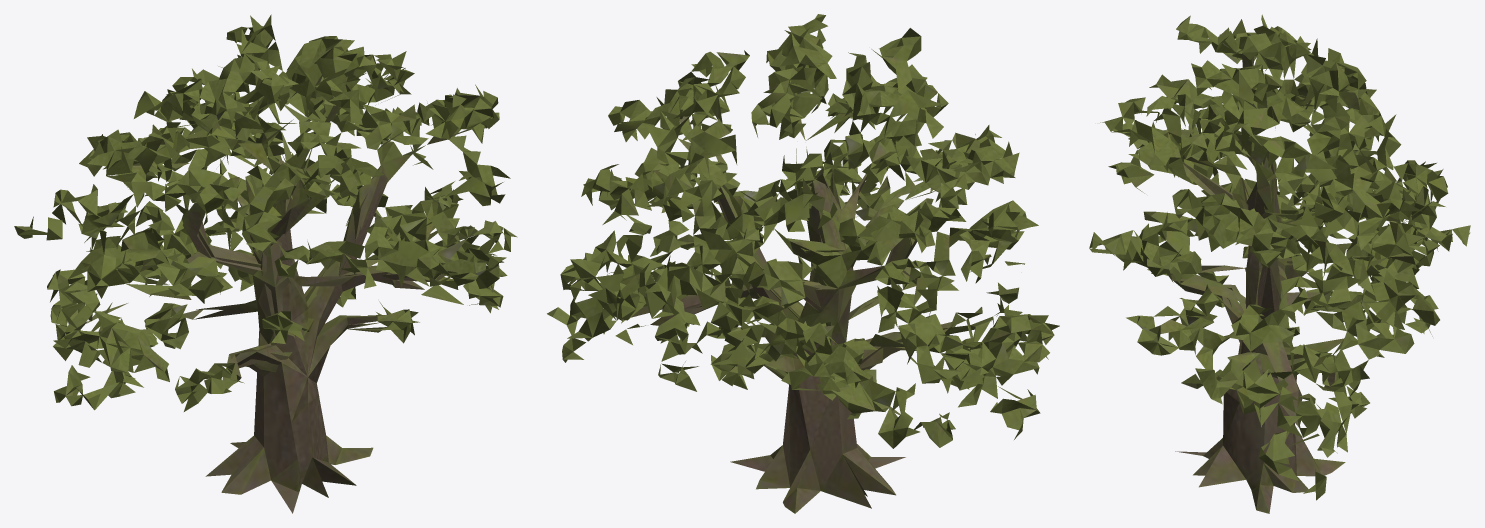
The model's file is prop_tree_oak.glb.
3 renders of one model, left to right at view 1: azimuth 30°, elevation 25°; view 2: azimuth 150°, elevation 25°; view 3: azimuth 270°, elevation 25°, orthographic. The views are drawn at different scales.
Parts seen in each view (by area): view 1: Mesh_0; view 2: Mesh_0; view 3: Mesh_0.
Boxes of the visible parts, bbox=[...] form: Mesh_0: bbox=[14, 14, 517, 513]; Mesh_0: bbox=[547, 14, 1059, 513]; Mesh_0: bbox=[1089, 14, 1470, 513].
Size of the model in its own units: 1.82 by 1.61 by 1.28.
Materials: 1 (1 with a texture image).
